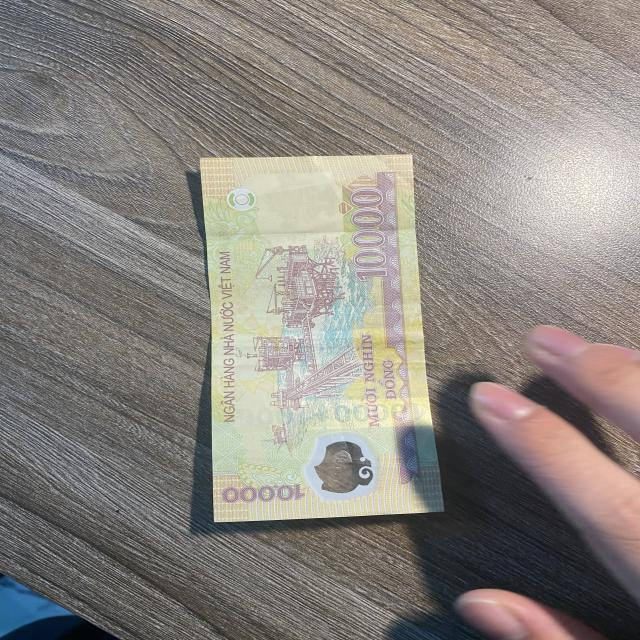10 000 VND: (182, 144, 460, 536)
